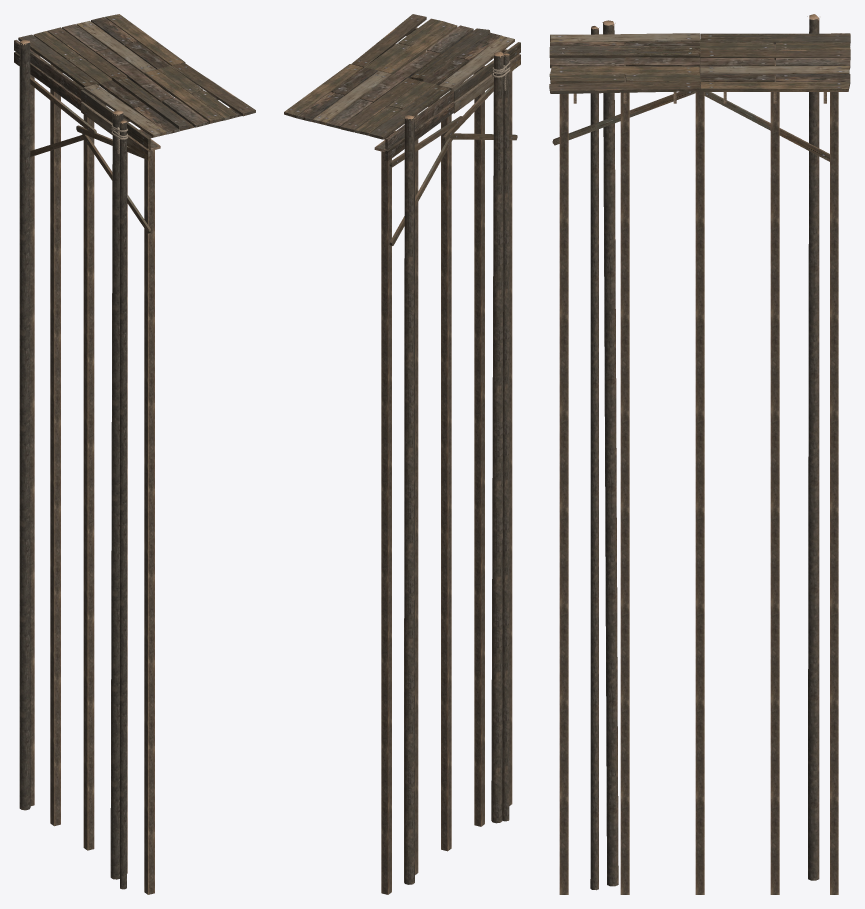
Rendered from wooden_walkway_large_edge_600_b.glb.
The picture shows the model from 3 angles, left to right: view 1: azimuth 30°, elevation 25°; view 2: azimuth 150°, elevation 25°; view 3: azimuth 270°, elevation 25°; orthographic projection. The views are drawn at different scales.
Parts seen in each view (by area): view 1: wooden_walkway_large_edge_600_b_LOD0; view 2: wooden_walkway_large_edge_600_b_LOD0; view 3: wooden_walkway_large_edge_600_b_LOD0.
Part boxes in pixels (x1,y1,x2,y2): wooden_walkway_large_edge_600_b_LOD0: (14, 14, 255, 894); wooden_walkway_large_edge_600_b_LOD0: (284, 14, 520, 894); wooden_walkway_large_edge_600_b_LOD0: (549, 14, 850, 894).
Size of the model in its own units: 3.1 by 19.24 by 6.03.
3 materials, 3 textured.
